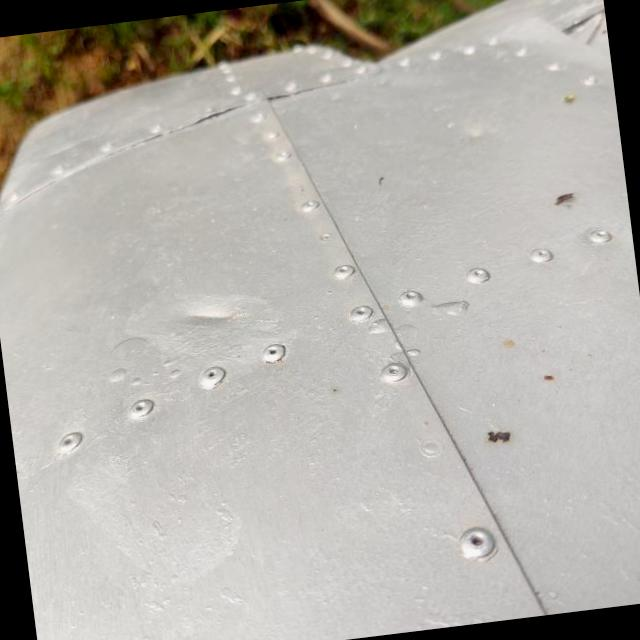dent: (153, 264, 268, 366)
